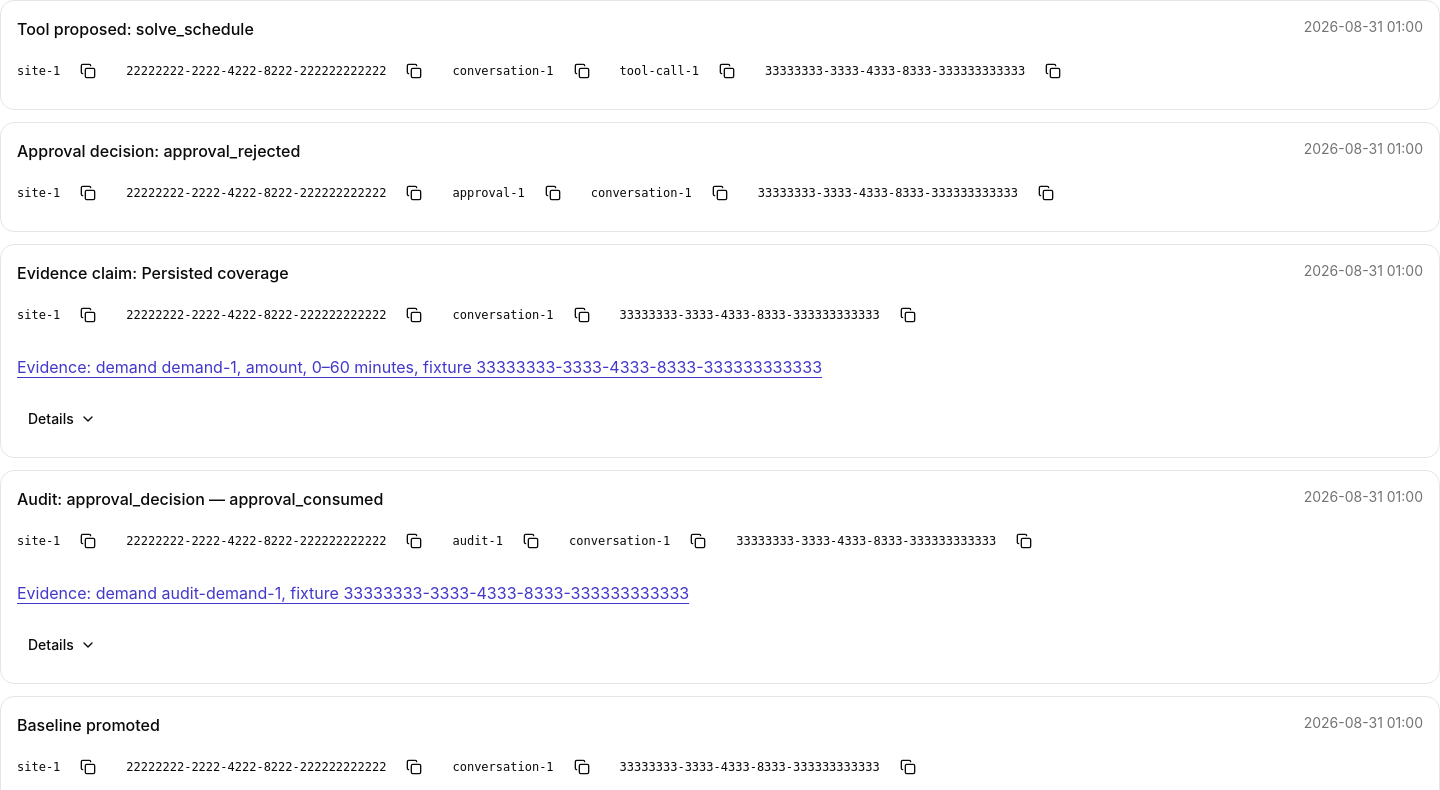
Test: renders an ordered, literal, inspectable timeline without leaking planted payload text
Expected: the text "Tool proposed: solve_schedule" is shown, [17, 17, 254, 41]
Expected: the text "Approval decision: approval_rejected" is shown, [17, 139, 300, 163]
What coordinates should you click on to do the following:
click the button "Details" below "Evidence claim: Persisted coverage"
I would click on:
 (62, 419)
Its box is [17, 397, 107, 441].
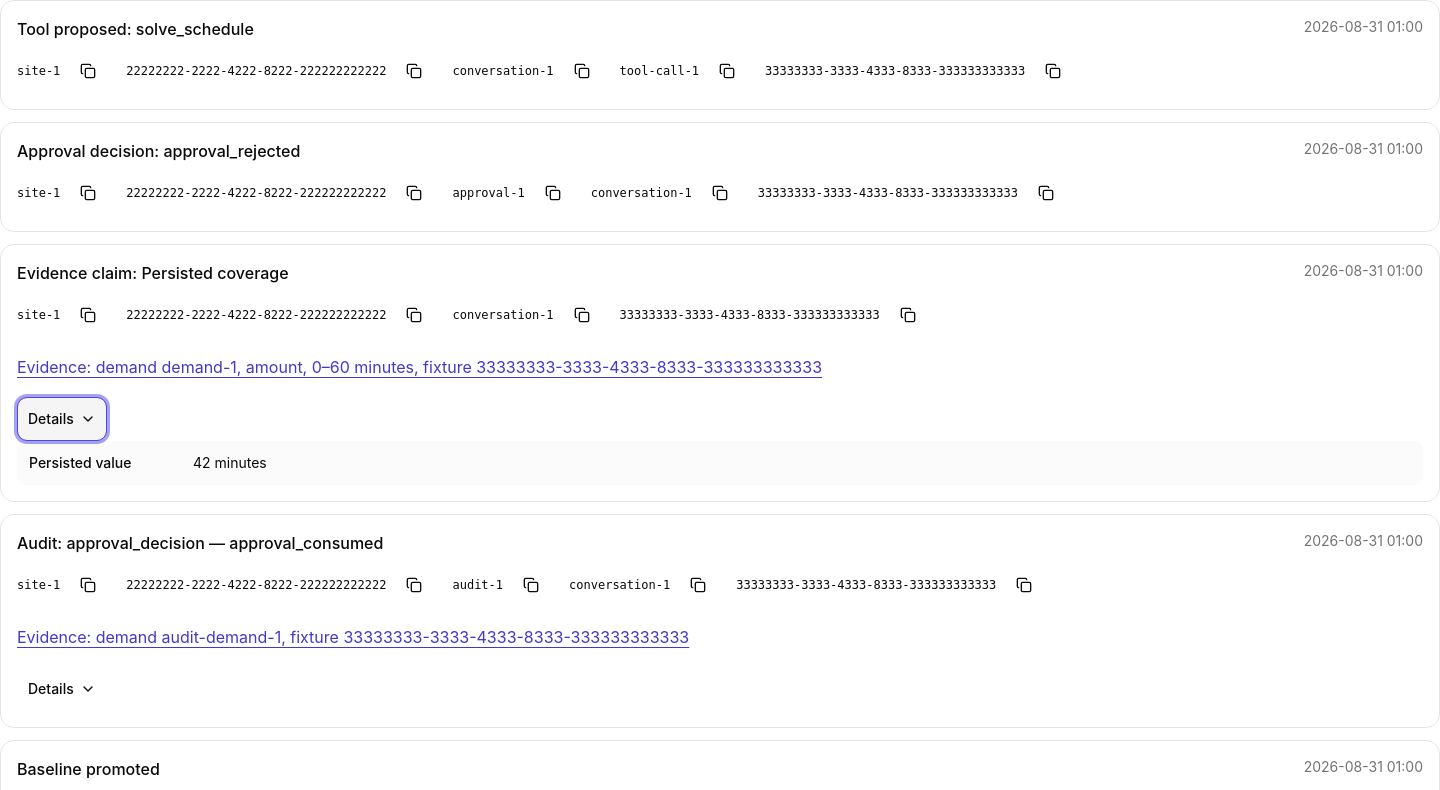
Expected: the text "Persisted value" is shown, [29, 454, 132, 471]
